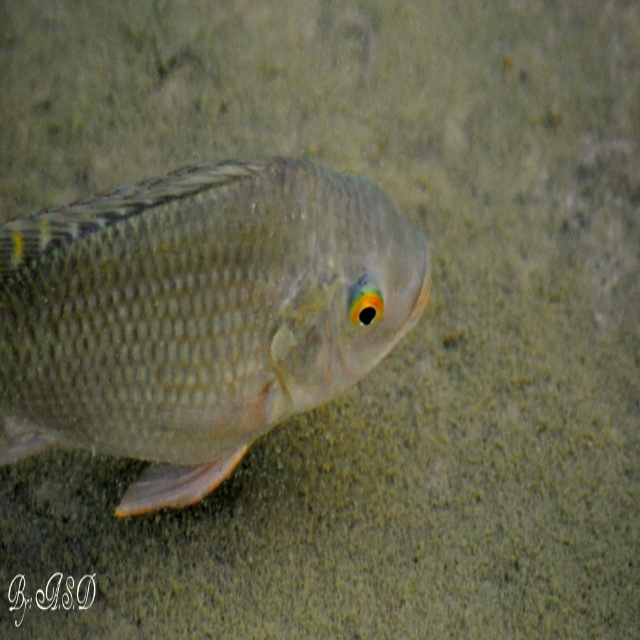Fish: (0, 155, 431, 517)
